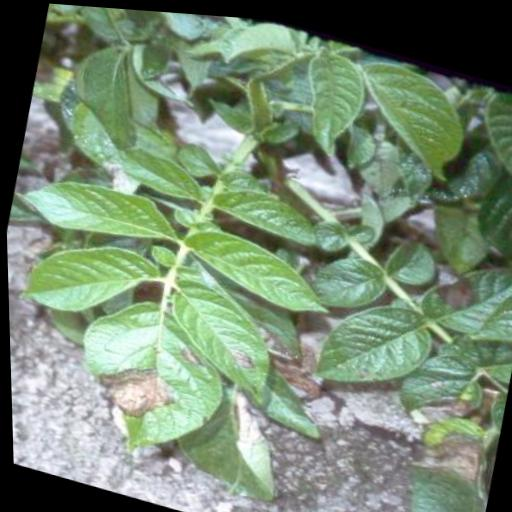Late Blight: (61, 282, 246, 473), (372, 389, 502, 512)
